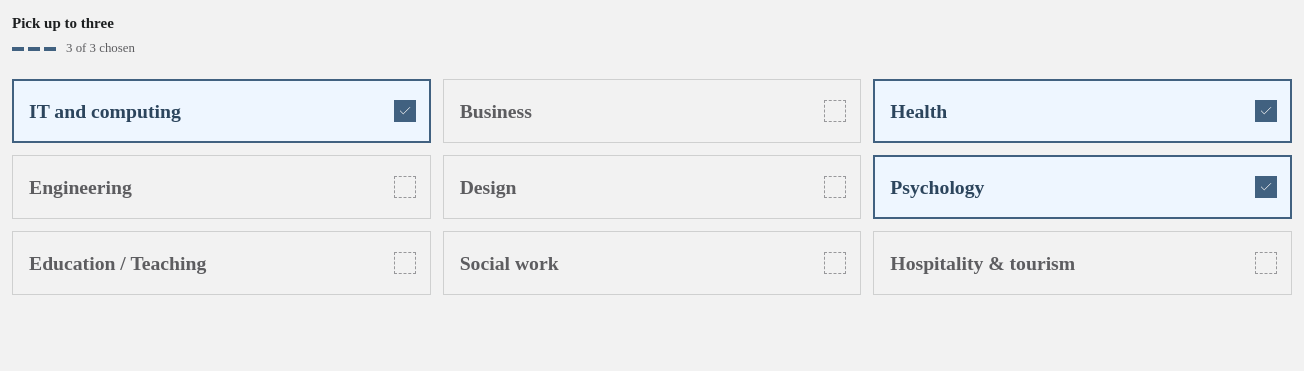
it: refuses a fourth area calmly, marks the rest full, and lets go when she makes room
The width and height of the screenshot is (1304, 371).
Check: the text "3 of 3 chosen" is shown, box x1=66 y1=39 x2=135 y2=59
Check: the text "Three is the most for now. Tap one you've chosen to make room." is not shown
Click the checkbox labelled "Business": (496, 111) x1=443 y1=79 x2=861 y2=143
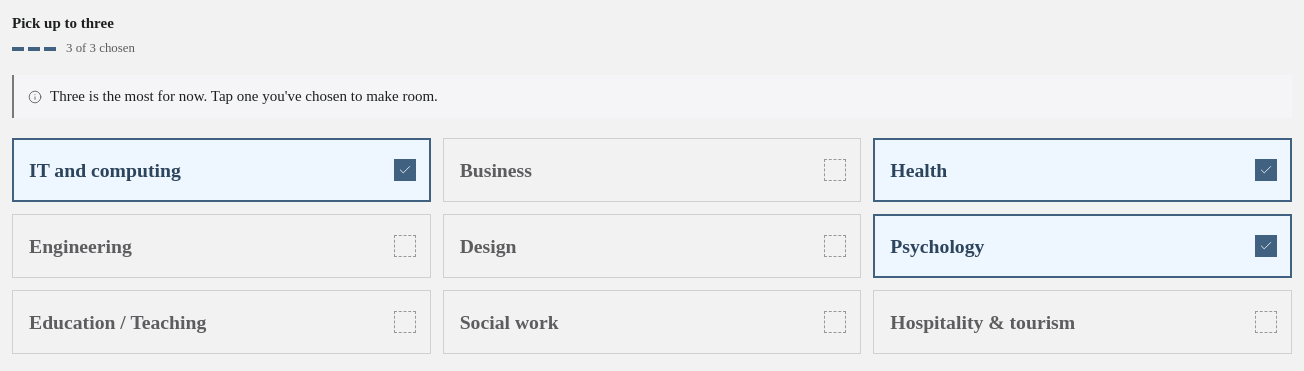
Check: the message reads "Three is the most for now. Tap one you've chosen to make room.", box x1=50 y1=88 x2=438 y2=104
Click the checkbox labelled "Psychology": (937, 246) x1=873 y1=214 x2=1292 y2=278
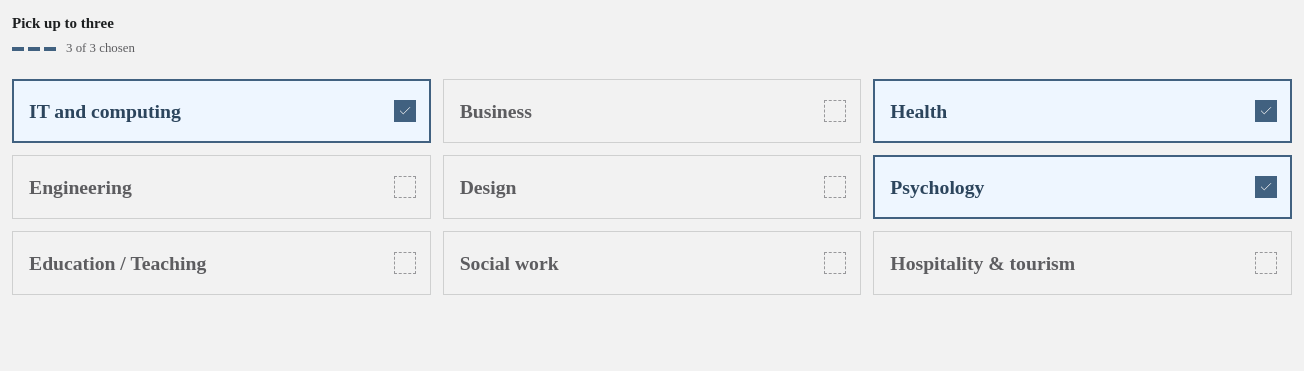
Check: the text "Three is the most for now. Tap one you've chosen to make room." is gone
